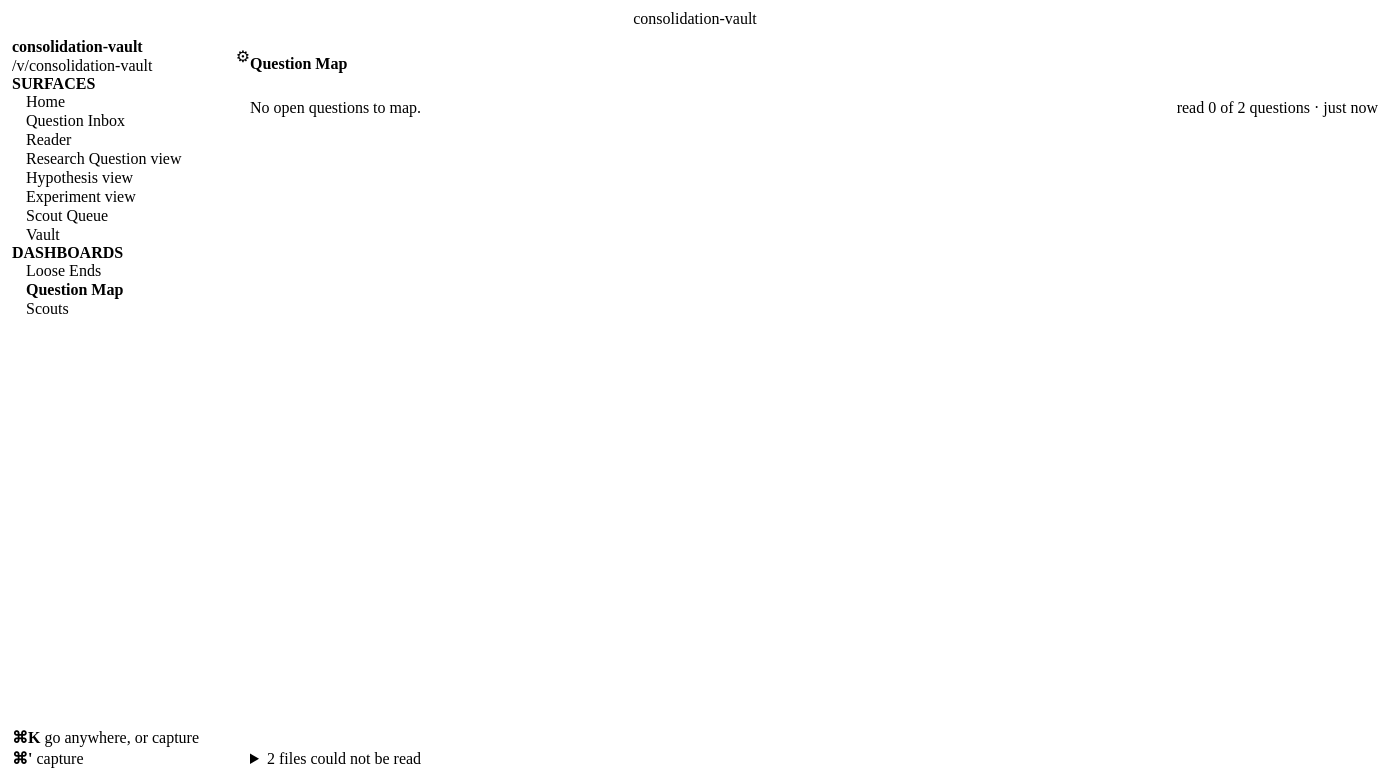
Test: what the Map could not read › counts Partial and Unreadable Questions in the footer and opens to each path and reason
Click the heading "2 files could not be read".
click(344, 758)  # box [267,750,421,767]
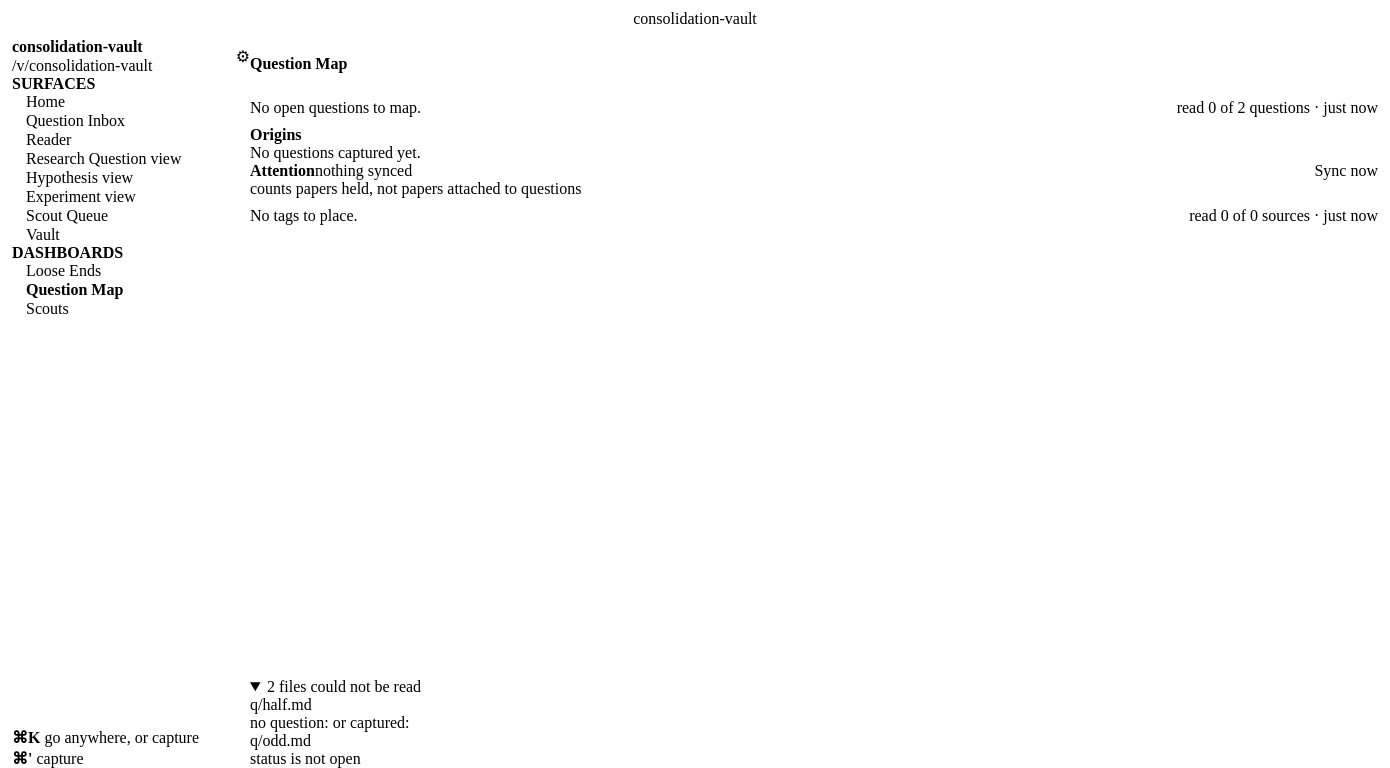
Expected: the text "q/half.md" is shown, [250,696,312,713]
Expected: the text "no question: or captured:" is shown, [250,714,410,731]
Expected: the text "q/odd.md" is shown, [250,732,311,749]
